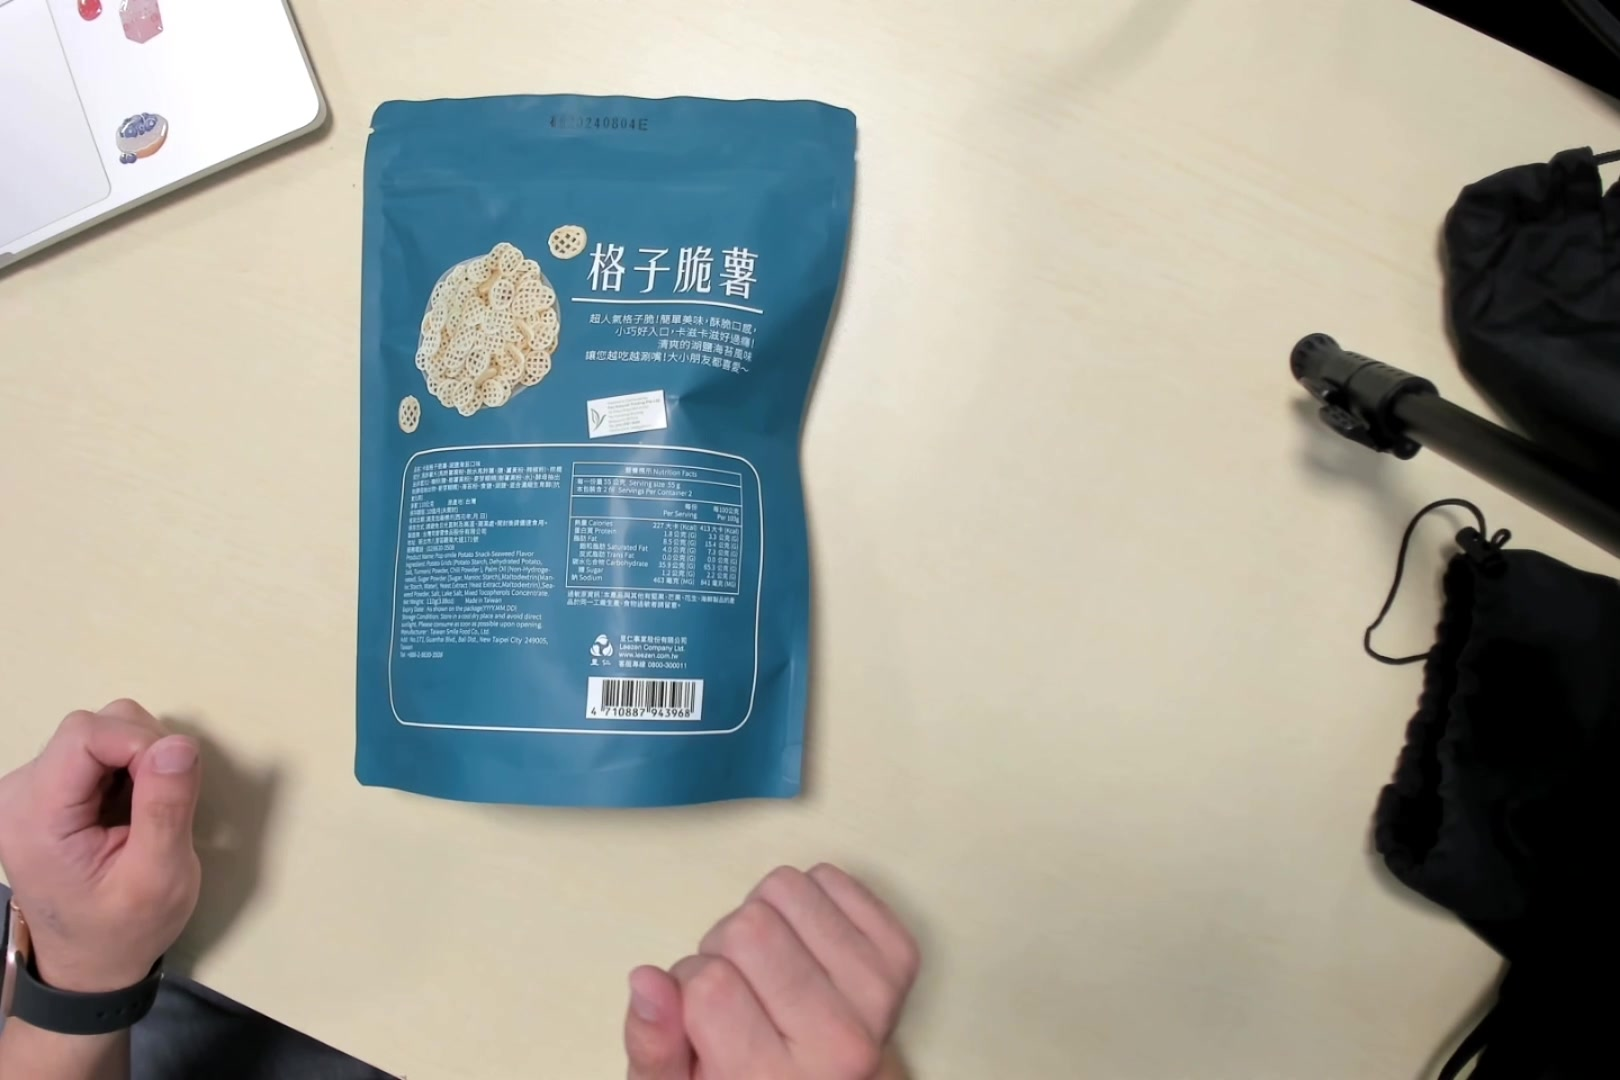PotatoChipsKeropok_100-199g_NonHalal_NonHealthy: (358, 100, 803, 808)
